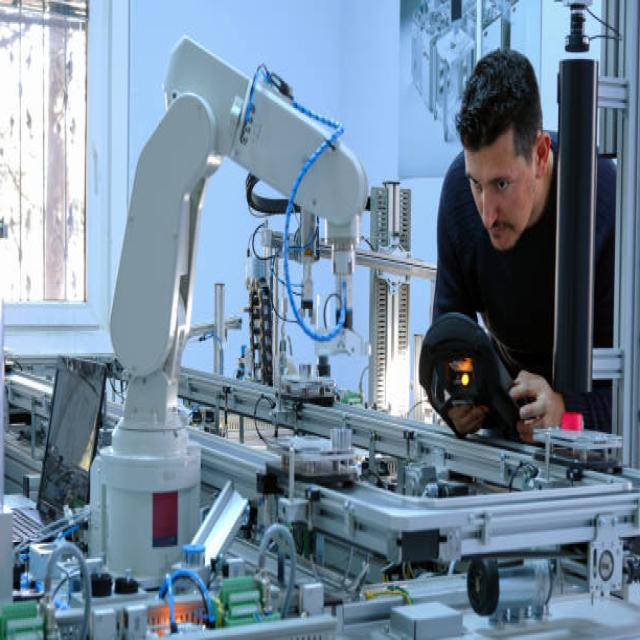Robotic-arm: (85, 27, 375, 579)
